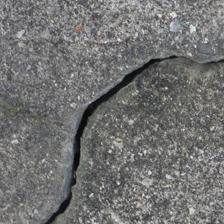Crack: (25, 28, 153, 195)
